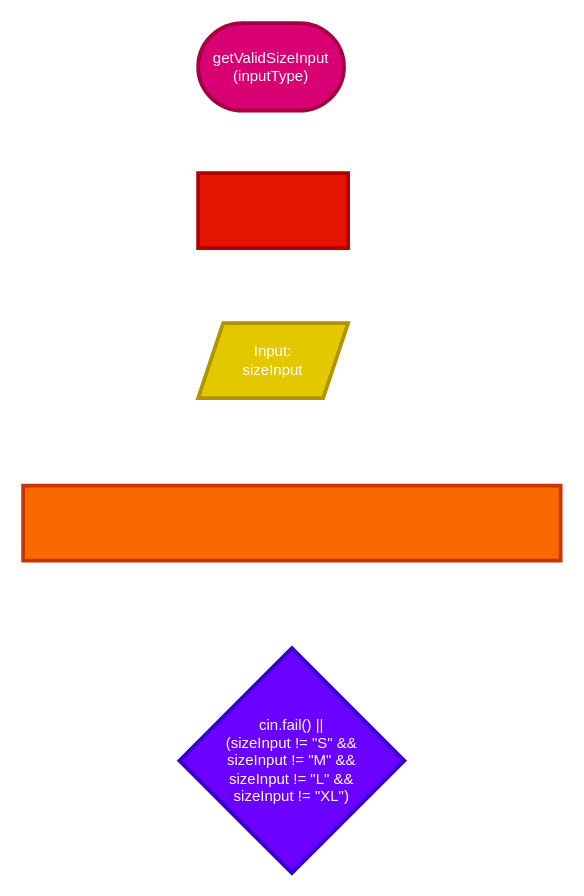
This 584x896 diagram has some shape labels left out. Each missing label, with the box of its shape:
Declare string sizeInput: (196, 171, 349, 249)
std::transform(sizeInput.begin(), sizeInput.end(), sizeInput.begin() ::toupper): (21, 483, 562, 562)
